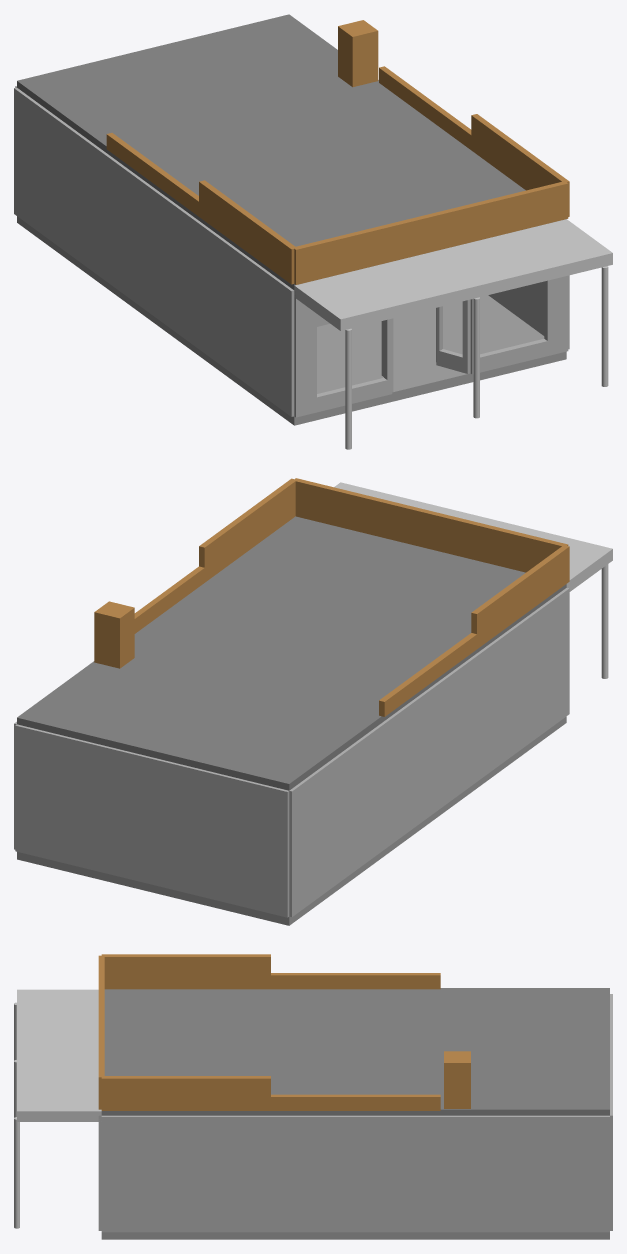
The model's file is building_phase_1a_iter_037.glb.
3 renders of one model, top to bottom at view 1: azimuth 30°, elevation 25°; view 2: azimuth 150°, elevation 25°; view 3: azimuth 270°, elevation 25°, orthographic. The views are drawn at different scales.
Parts seen in each view (by area): view 1: Roof, Wall_Left, Canopy_Roof, Foundation, Parapet_Front, Wall_Front, Parapet_Left_Front, Parapet_Right_Front, Chimney, Parapet_Right_Middle, Parapet_Left_Middle, Wall_Right (+4 smaller); view 2: Roof, Wall_Left, Wall_Rear, Parapet_Front, Foundation, Parapet_Left_Front, Parapet_Right_Front, Canopy_Roof, Chimney, Parapet_Left_Middle, Parapet_Right_Middle, Canopy_Post_1; view 3: Wall_Right, Roof, Canopy_Roof, Parapet_Left_Front, Parapet_Right_Front, Foundation, Parapet_Left_Middle, Parapet_Right_Middle, Chimney, Parapet_Front, Wall_Rear, Canopy_Post_3 (+1 smaller).
Part boxes in pixels (x1=…): Roof: x1=17, y1=14, x2=525, y2=289; Wall_Left: x1=14, y1=87, x2=294, y2=416; Canopy_Roof: x1=294, y1=219, x2=612, y2=330; Foundation: x1=17, y1=216, x2=566, y2=425; Parapet_Front: x1=294, y1=181, x2=568, y2=284; Wall_Front: x1=294, y1=275, x2=568, y2=417; Parapet_Left_Front: x1=199, y1=180, x2=296, y2=284; Parapet_Right_Front: x1=471, y1=114, x2=569, y2=216; Chimney: x1=338, y1=20, x2=378, y2=87; Parapet_Right_Middle: x1=379, y1=66, x2=471, y2=149; Parapet_Left_Middle: x1=106, y1=133, x2=198, y2=216; Wall_Right: x1=488, y1=275, x2=569, y2=349; Roof: x1=17, y1=516, x2=566, y2=790; Wall_Left: x1=289, y1=588, x2=569, y2=916; Wall_Rear: x1=15, y1=724, x2=289, y2=917; Parapet_Front: x1=294, y1=478, x2=568, y2=572; Foundation: x1=17, y1=716, x2=566, y2=925; Parapet_Left_Front: x1=471, y1=545, x2=569, y2=648; Parapet_Right_Front: x1=199, y1=478, x2=296, y2=582; Canopy_Roof: x1=334, y1=482, x2=612, y2=591; Chimney: x1=94, y1=601, x2=134, y2=668; Parapet_Left_Middle: x1=379, y1=633, x2=476, y2=716; Parapet_Right_Middle: x1=134, y1=566, x2=204, y2=633; Canopy_Post_1: x1=601, y1=564, x2=608, y2=678; Wall_Right: x1=101, y1=1115, x2=609, y2=1232; Roof: x1=101, y1=988, x2=609, y2=1115; Canopy_Roof: x1=17, y1=989, x2=101, y2=1121; Parapet_Left_Front: x1=101, y1=954, x2=270, y2=989; Parapet_Right_Front: x1=101, y1=1076, x2=270, y2=1110; Foundation: x1=101, y1=1232, x2=609, y2=1239; Parapet_Left_Middle: x1=271, y1=973, x2=440, y2=989; Parapet_Right_Middle: x1=271, y1=1094, x2=440, y2=1110; Chimney: x1=444, y1=1051, x2=470, y2=1108; Parapet_Front: x1=98, y1=955, x2=104, y2=1109; Wall_Rear: x1=610, y1=994, x2=612, y2=1230; Canopy_Post_3: x1=14, y1=1117, x2=19, y2=1228.
Bounding box in the file's own units: 8.68 × 5.73 × 17.68.
